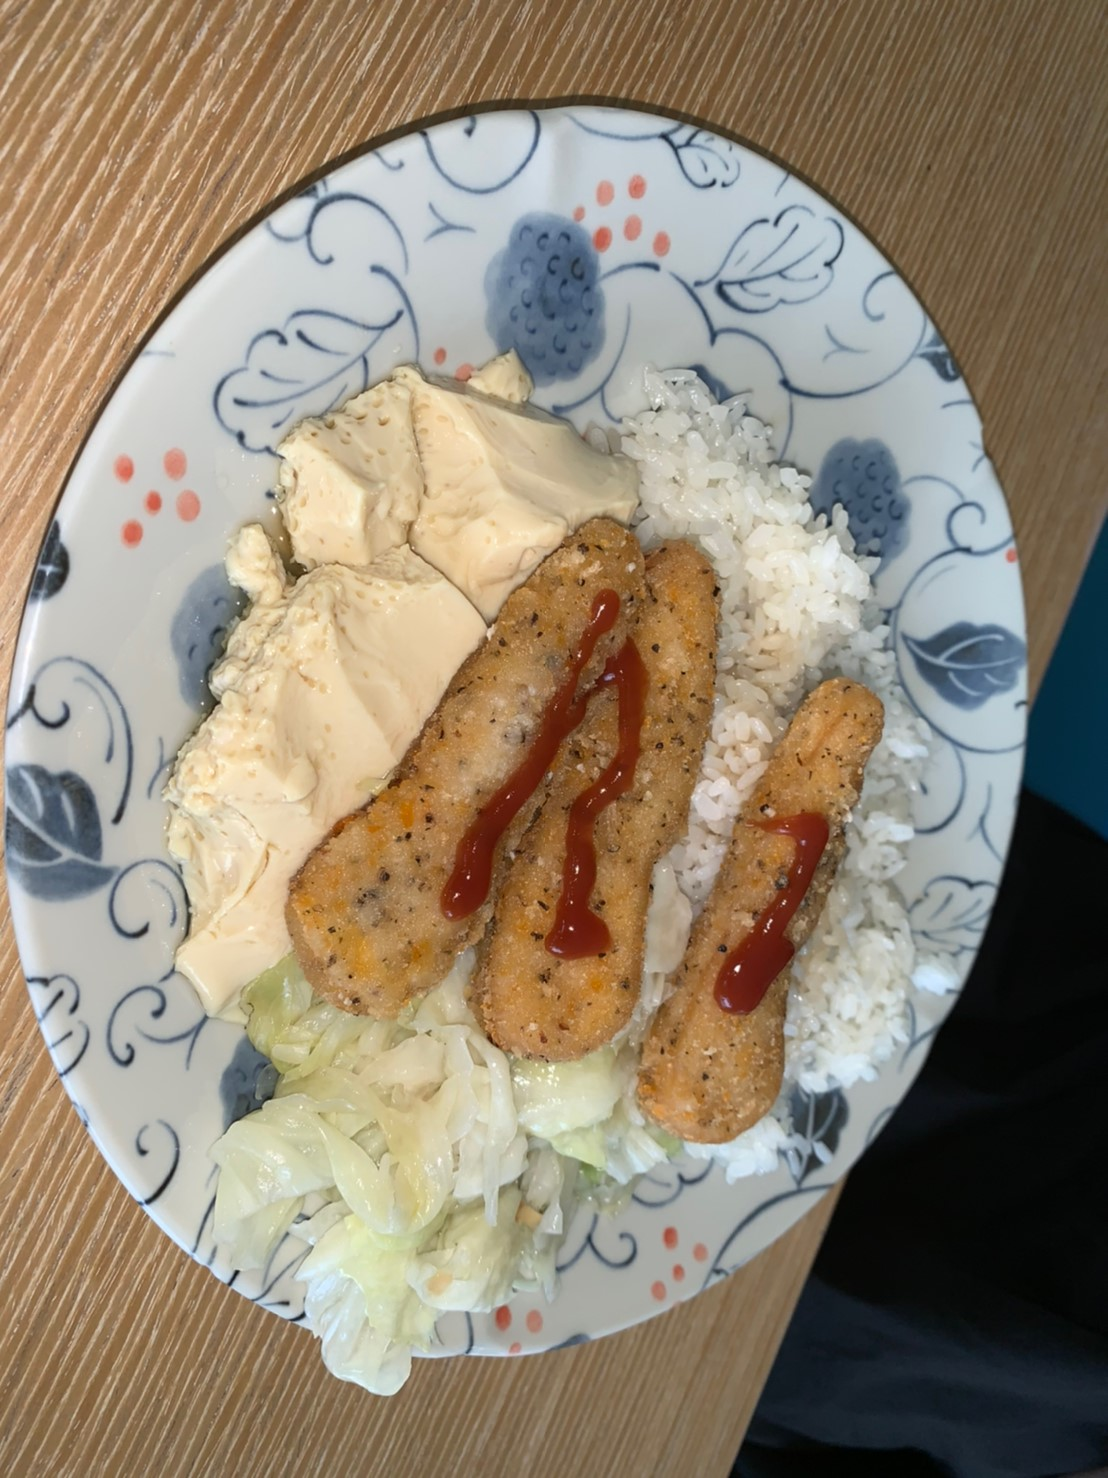chinese_cabbage: (206, 1030, 627, 1322)
rice: (627, 372, 874, 675)
